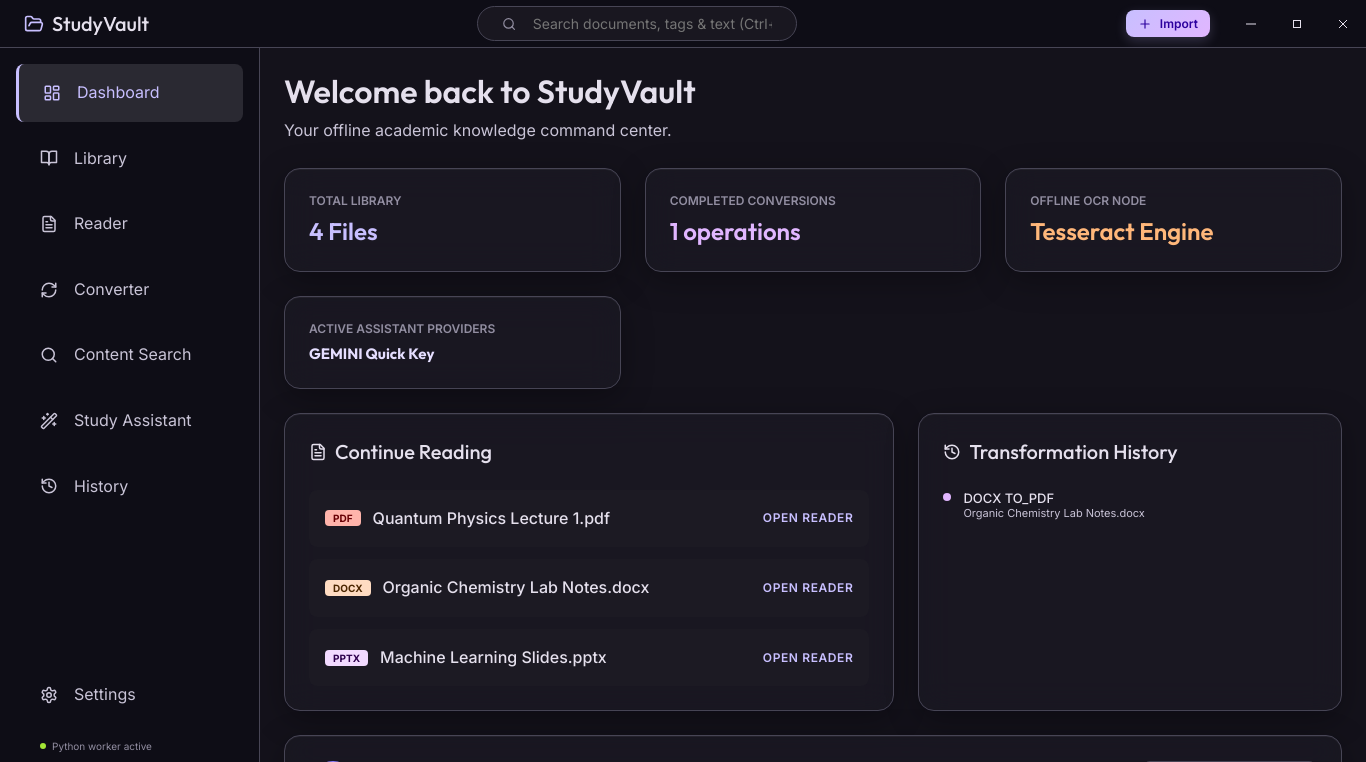
React Frontend UI Component › should render folder controls in Library screen
Note: Navigate to Library
Click the text "Library". click: (100, 158)
box: [74, 146, 127, 171]
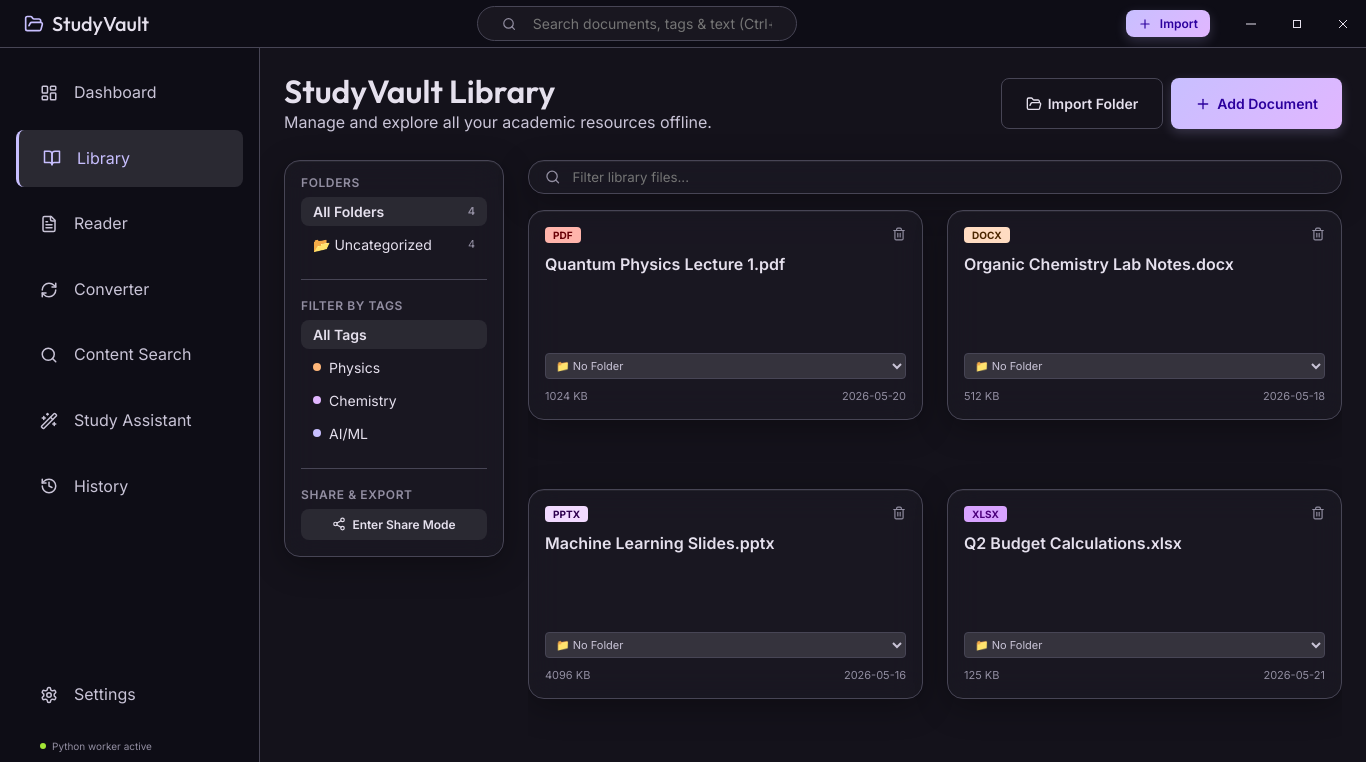
Expected: the text "Import Folder" is shown, [1048, 96, 1138, 112]
Expected: the text "All Folders" is shown, [313, 203, 384, 220]
